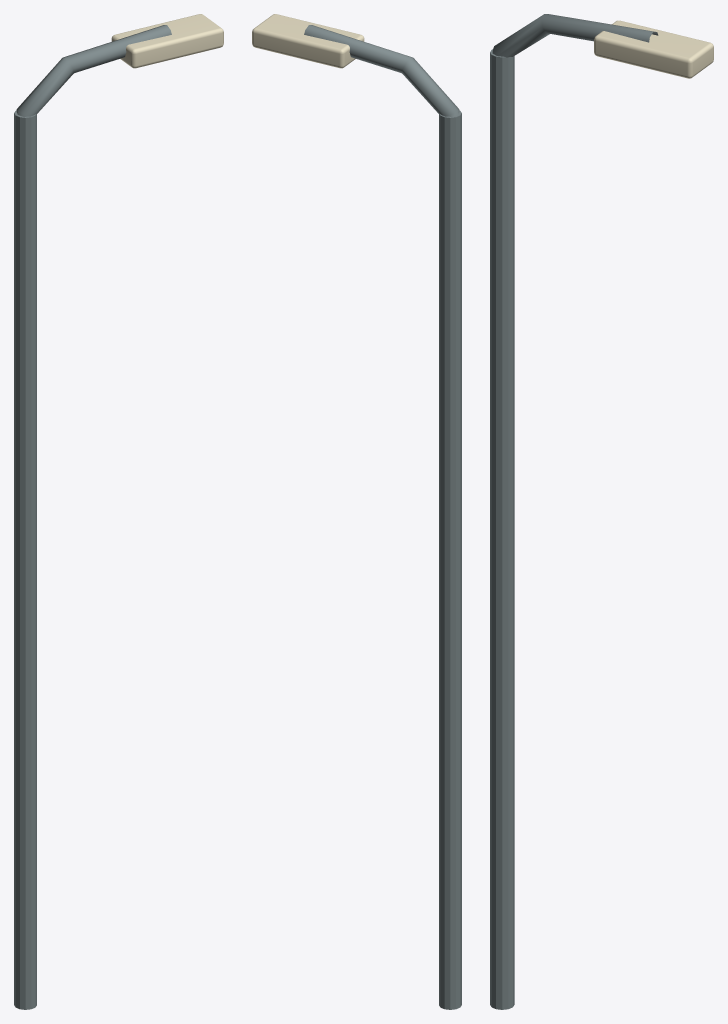
The model's file is streetlight.glb.
3 renders of one model, left to right at view 1: azimuth 30°, elevation 25°; view 2: azimuth 150°, elevation 25°; view 3: azimuth 330°, elevation 25°, orthographic. The views are drawn at different scales.
Parts seen in each view (by area): view 1: Streetlamp post, Luminaire; view 2: Streetlamp post, Luminaire; view 3: Streetlamp post, Luminaire.
Part boxes in pixels (bbox=[...]): Streetlamp post: bbox=[14, 25, 171, 1009]; Luminaire: bbox=[111, 14, 223, 68]; Streetlamp post: bbox=[304, 25, 461, 1009]; Luminaire: bbox=[252, 14, 364, 68]; Streetlamp post: bbox=[490, 14, 658, 1009]; Luminaire: bbox=[594, 20, 713, 78].
Bounding box in the file's own units: 1.39 × 6.36 × 0.28.
